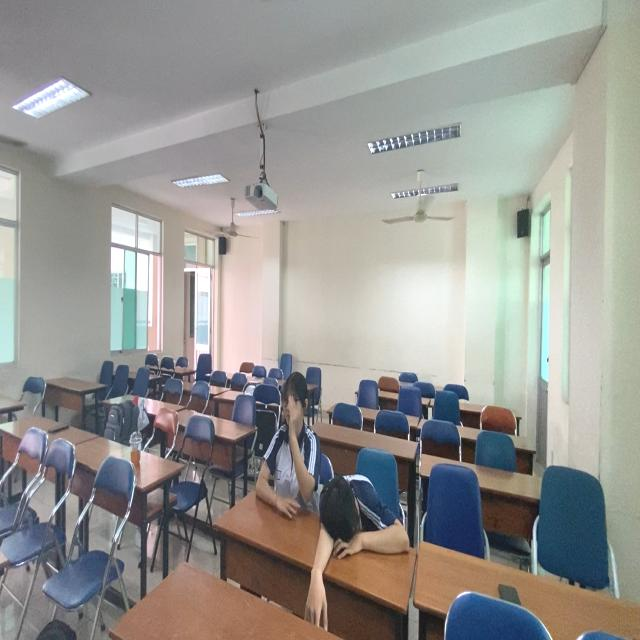raise_hand: (252, 370, 323, 514)
sleep: (315, 464, 408, 559)
